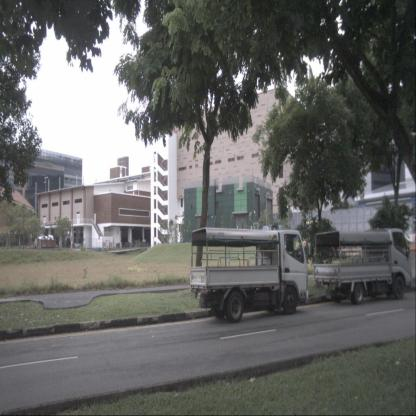vehicle-truck: (189, 226, 309, 323), (314, 227, 411, 304)
